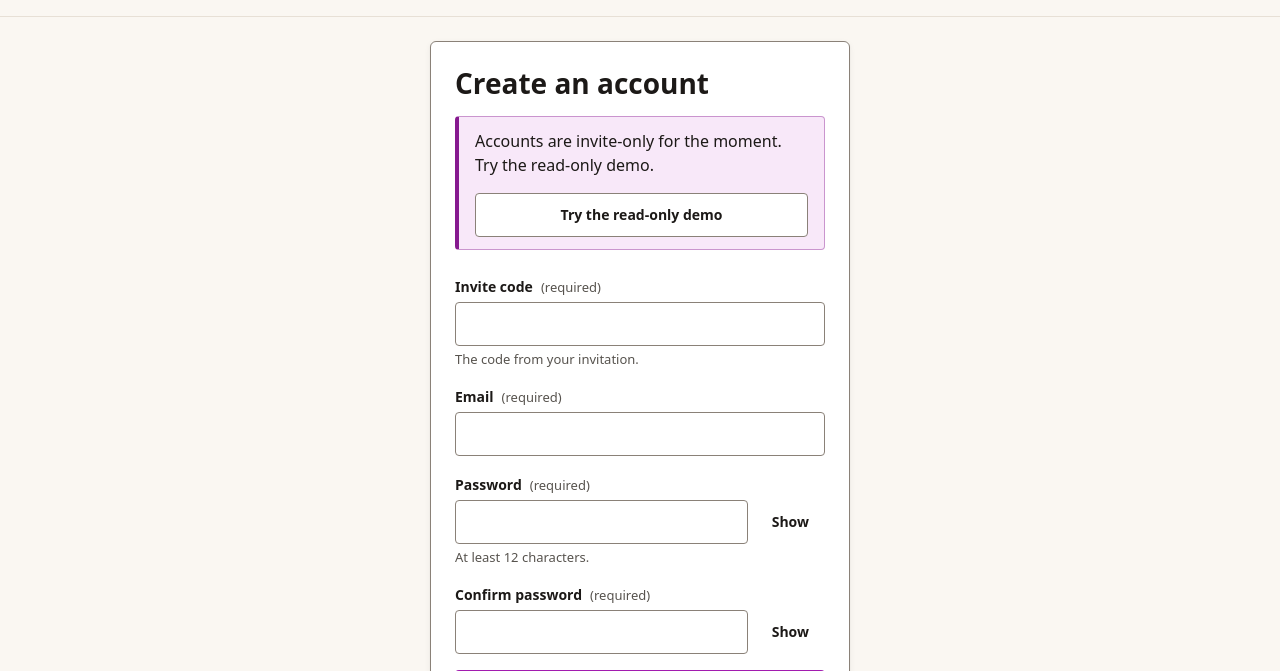
it: the sign-up page (T03 criterion 3, D10) › shows the 429 line
In the field labelled "Invite code": (640, 324) [455, 302, 825, 346], type "fake-invite-0000-zz"
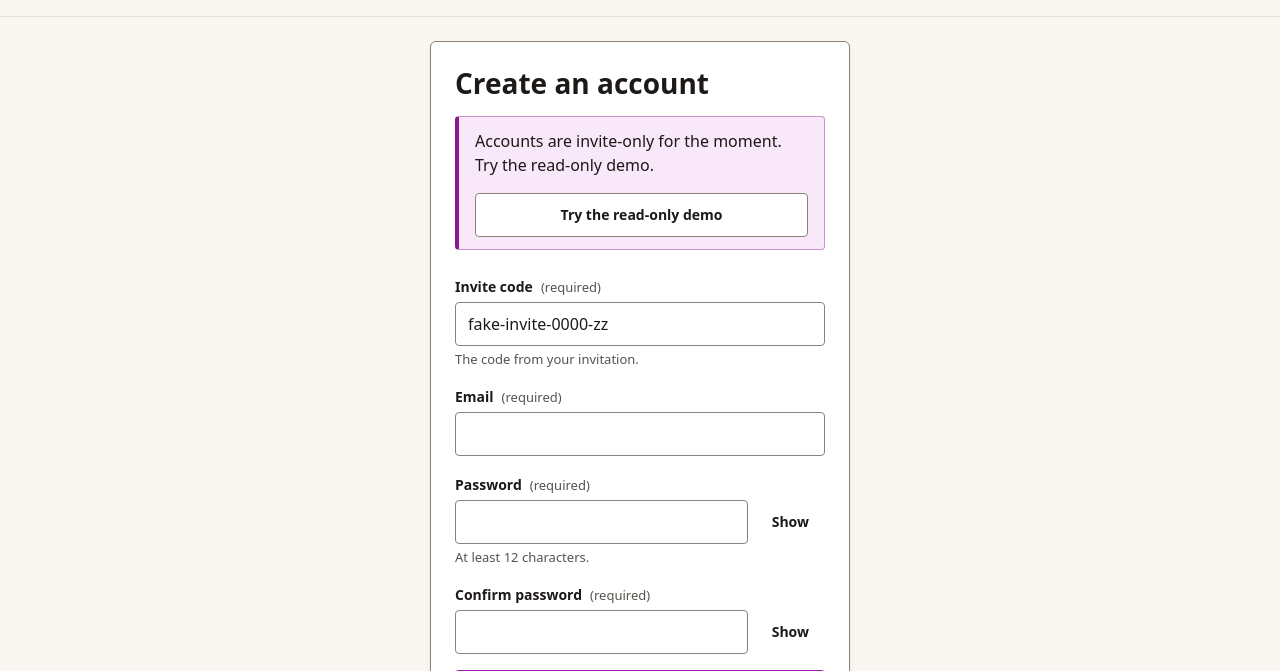
In the field labelled "Email": (640, 434) [455, 412, 825, 456], type "newcomer@example.com"
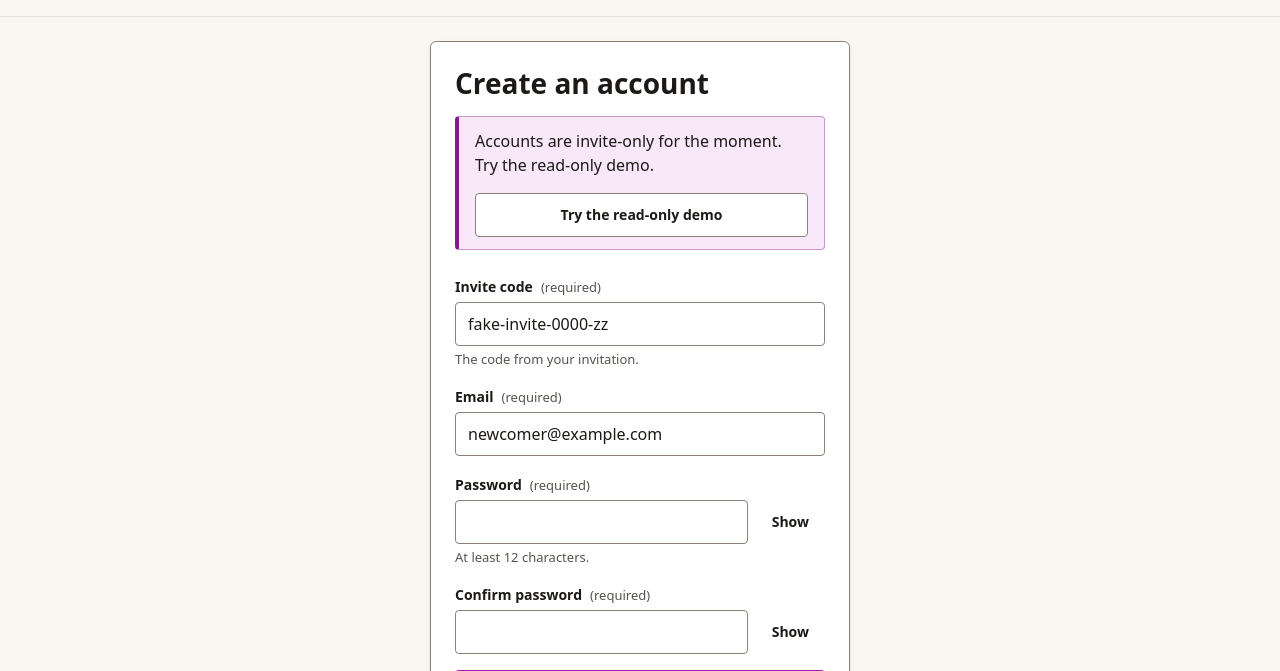
In the password field labelled "Password": (601, 522) [455, 500, 748, 544], type "fake-password-0000-ok"
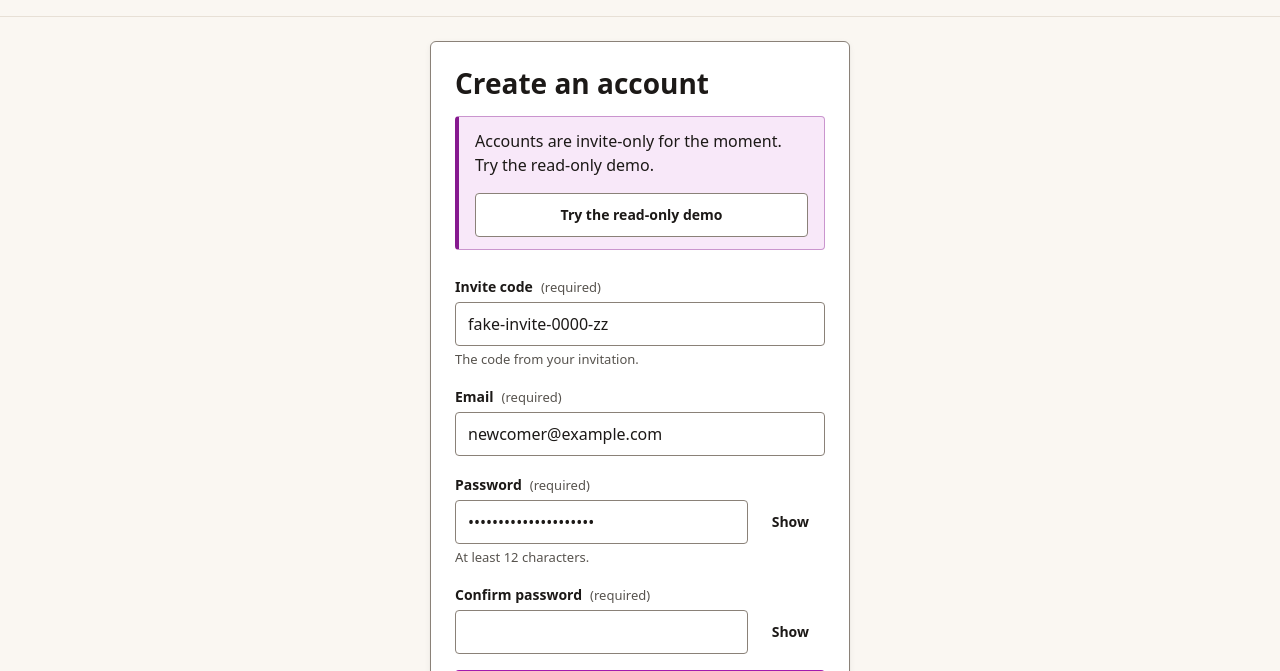
In the password field labelled "Confirm password": (601, 632) [455, 610, 748, 654], type "fake-password-0000-ok"
(page scrolled)
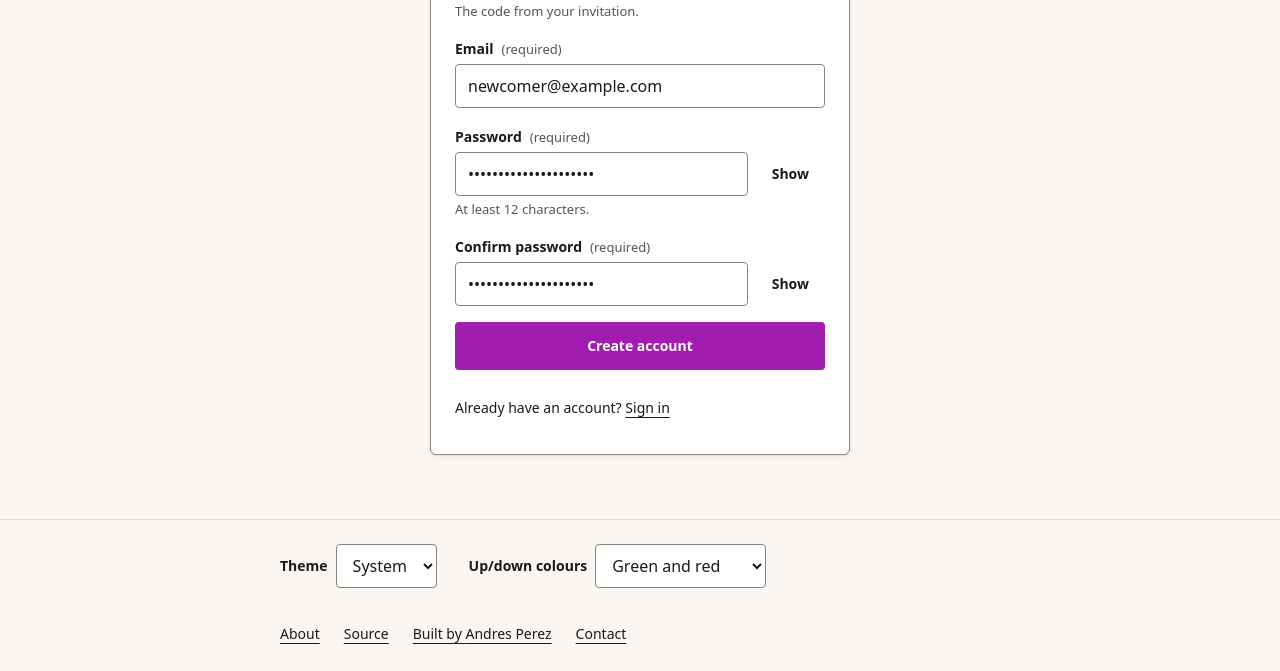
Click the button "Create account": (640, 346) [455, 322, 825, 370]
(page scrolled)
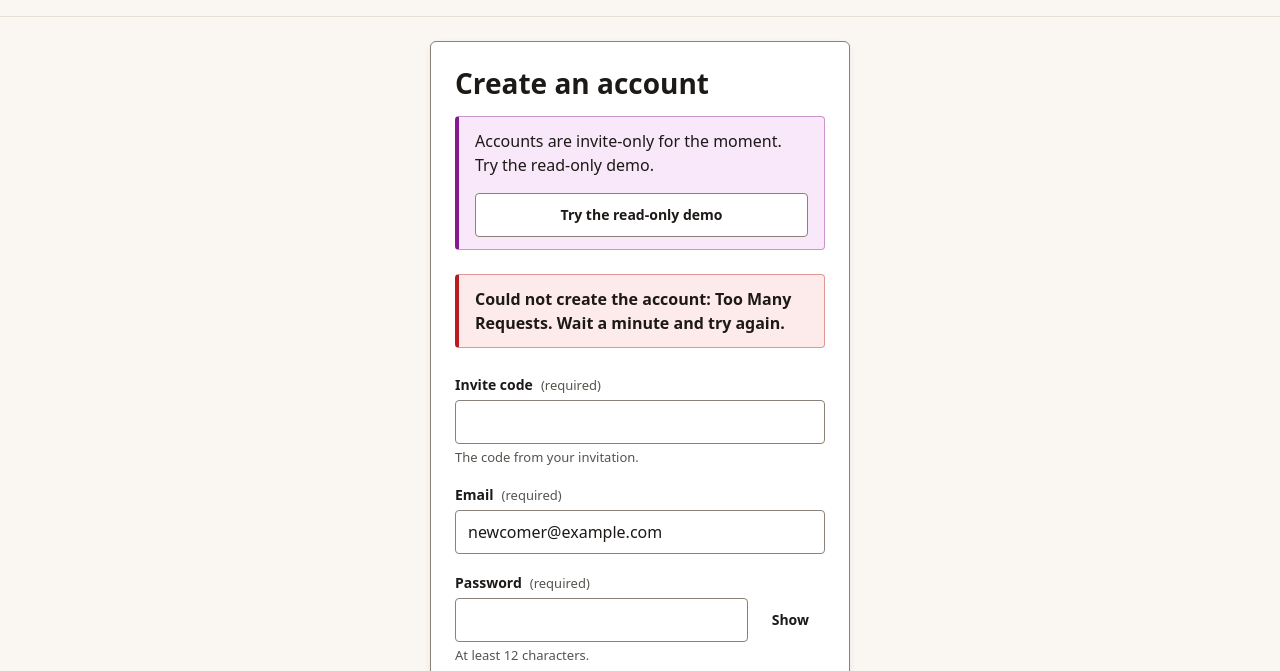
Expected: the message reads "Could not create the account: Too Many Requests. Wait a minute and try again.", [475, 288, 791, 334]
